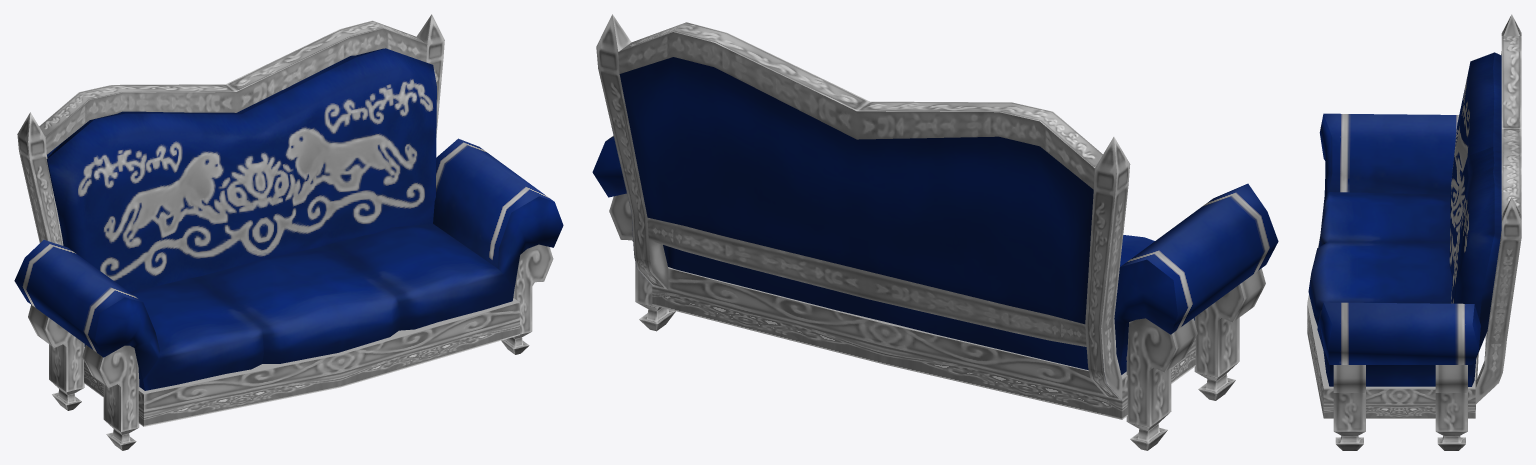
Rendered from EmpressSofa_HD.fbx.
3 renders of one model, left to right at view 1: azimuth 30°, elevation 25°; view 2: azimuth 150°, elevation 25°; view 3: azimuth 270°, elevation 25°, orthographic. The views are drawn at different scales.
Visible parts, largest first — view 1: EmpressSofa; view 2: EmpressSofa; view 3: EmpressSofa.
Boxes of the visible parts, left/top/right/bottom form: EmpressSofa: left=14, top=14, right=563, bottom=450; EmpressSofa: left=592, top=14, right=1278, bottom=450; EmpressSofa: left=1307, top=14, right=1521, bottom=450.
Size of the model in its own units: 1.98 by 1.12 by 0.8429.
